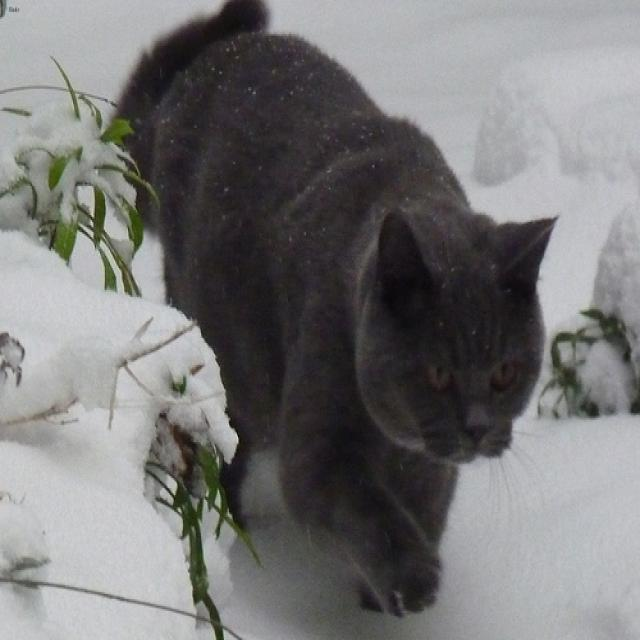British_Shorthair: (337, 196, 559, 479)
